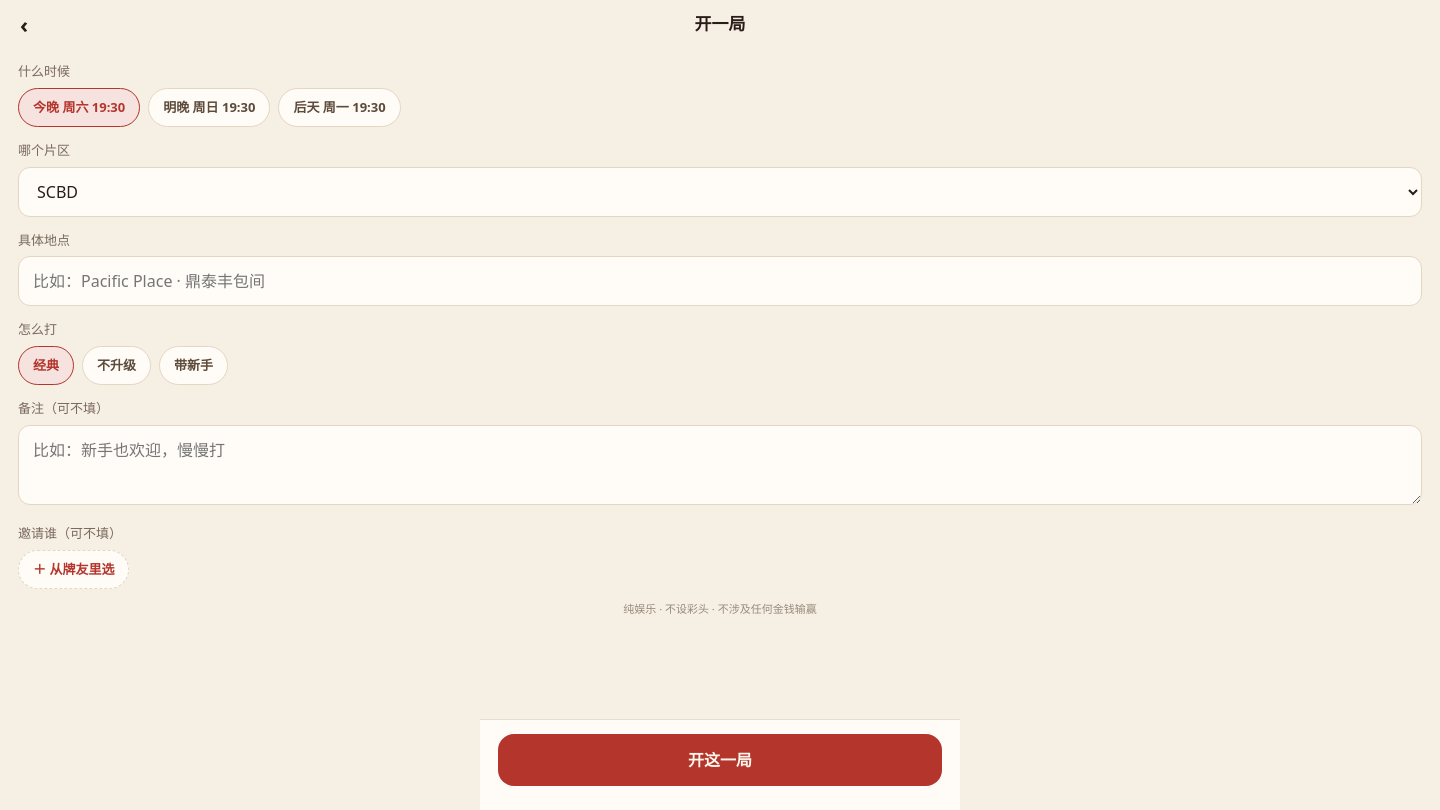
08 开局表单：邀请谁 › 没有牌友：面板里说清楚，可以「不邀请了」
Type "Pacific Place" into the field labelled "具体地点".
click(720, 281); type("Pacific Place")  # box [18,256,1422,306]
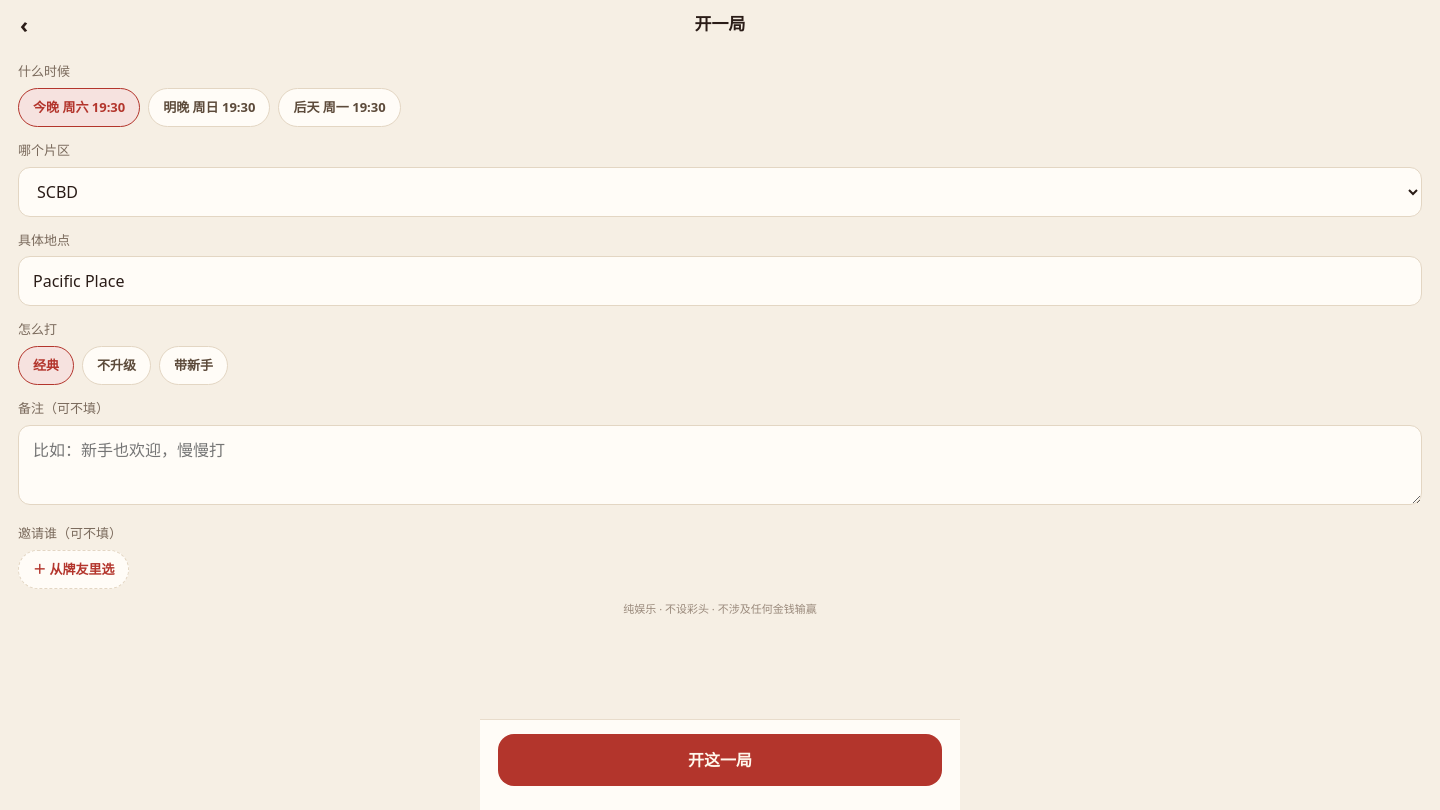
Click the button "＋ 从牌友里选".
click(74, 569)  # box [18,550,129,589]
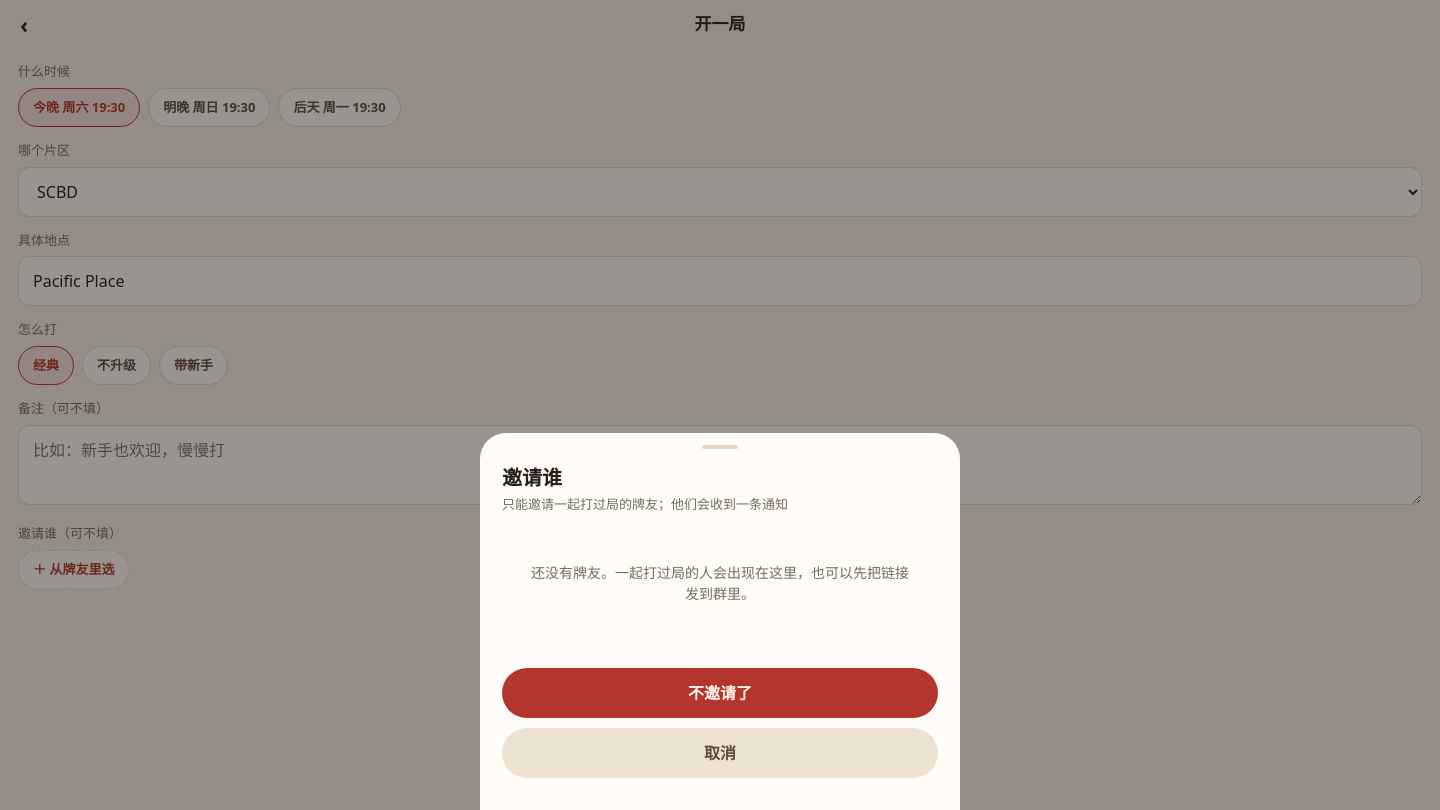
Check: the text "还没有牌友。一起打过局的人会出现在这里，也可以先把链接发到群里。" is shown, box [531,563,909,603]
Click the button "不邀请了".
click(720, 693)  # box [502,668,938,718]
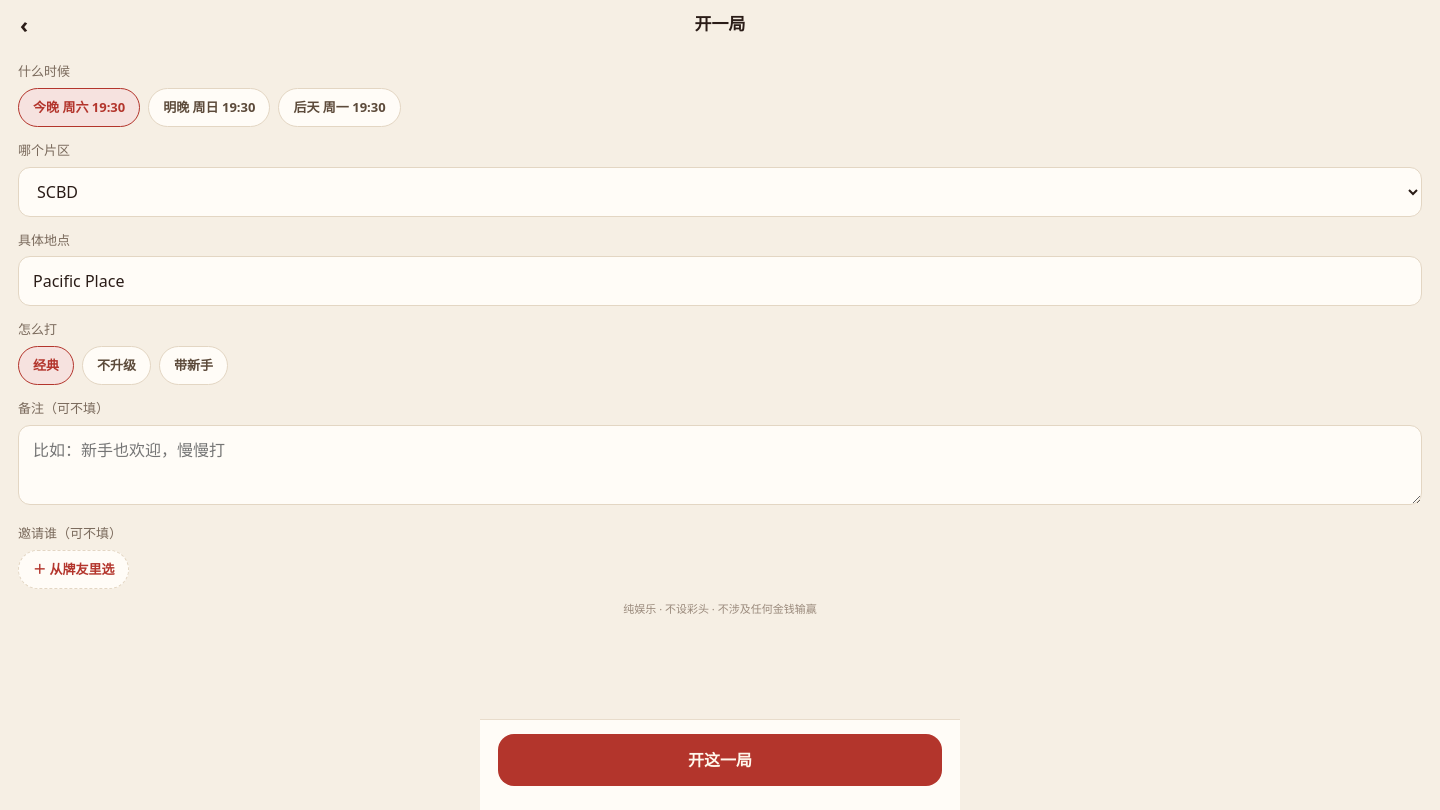
Check: the dialog with test id "friend-picker" is gone
